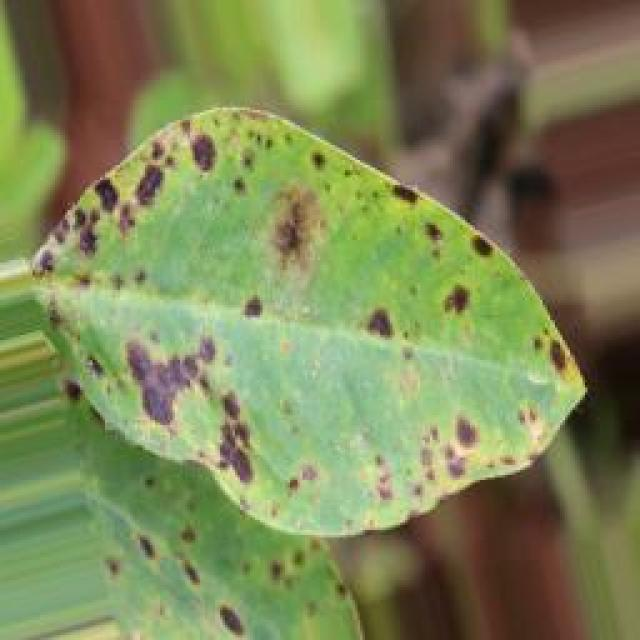Yellowish: (30, 85, 619, 600)
